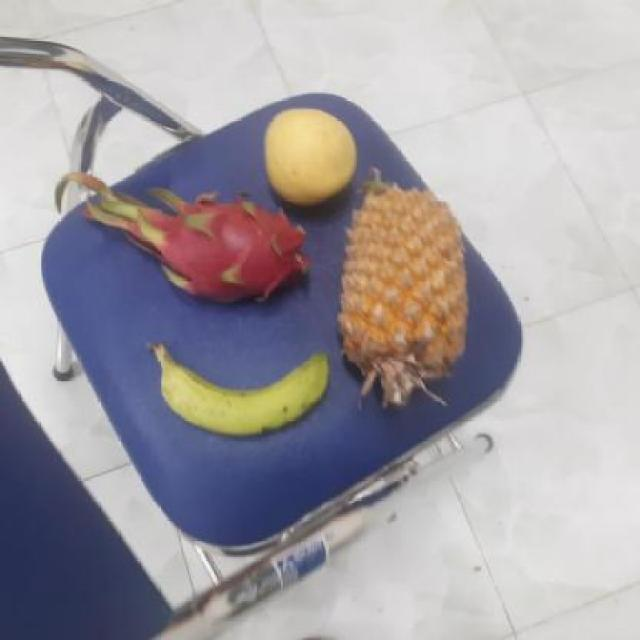banana: (148, 344, 328, 436)
dragon fruit: (134, 191, 308, 304)
pear: (258, 108, 360, 207)
pineapple: (334, 181, 471, 316)
